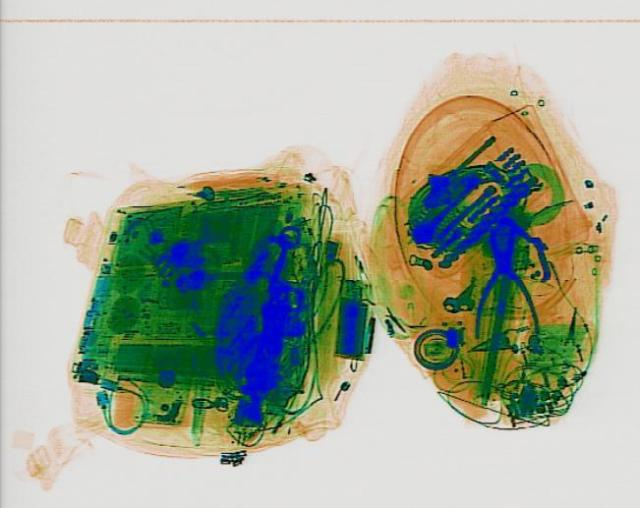Pliers: (469, 221, 538, 337)
